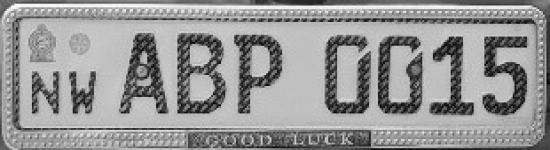0: (312, 31, 375, 117), (374, 33, 429, 119)
1: (429, 30, 481, 123)
5: (483, 30, 536, 125)
A: (116, 30, 173, 122)
B: (174, 29, 229, 122)
N: (25, 68, 65, 120)
P: (230, 29, 288, 118)
W: (68, 64, 106, 117)
